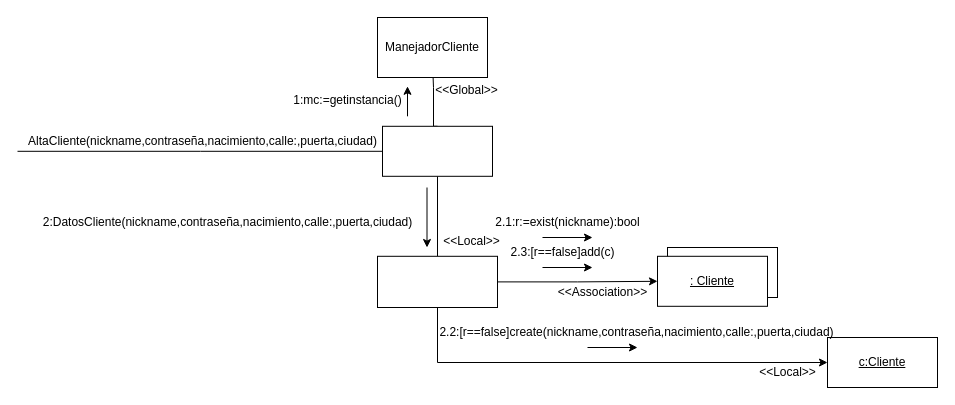
Image size: 955x405. Some labels were removed from this diagram. Each missing label, with the centre of its shape:
ControladorUsuario: the point at 437,150
mc:ManejadorCliente: the point at 437,281
